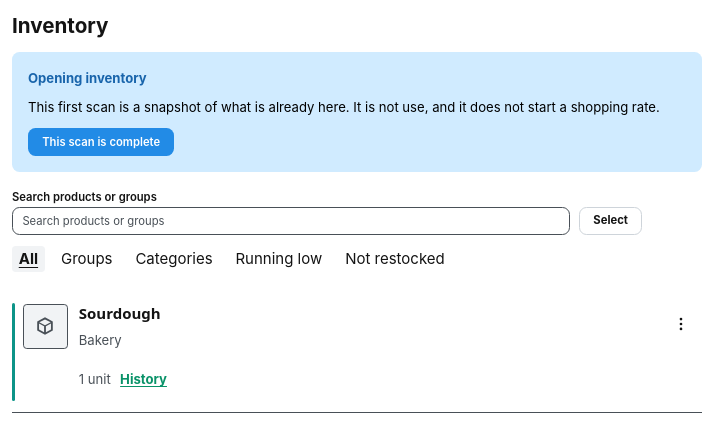
InventoryPage › shows the opening banner only while the first scan is unfinished
The image size is (719, 430).
Expected: the heading "Sourdough" is shown, [79, 302, 161, 322]
Expected: the message "Opening inventory" is shown, [12, 52, 702, 172]
What coordinates should you click on to do the following:
click the button "This scan is complete"
I would click on:
 (101, 142)
Its box is [28, 128, 174, 156].
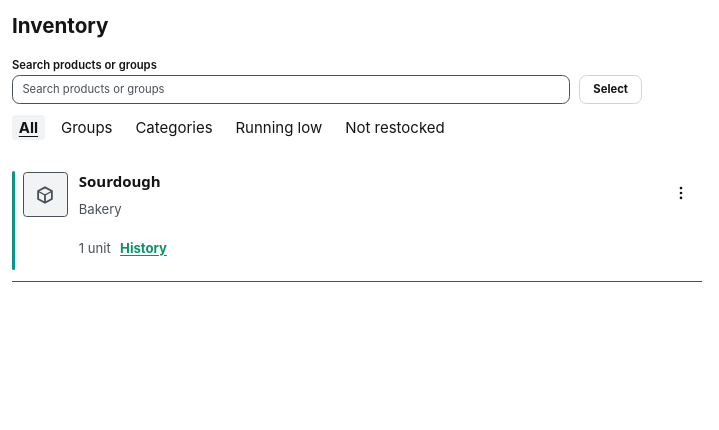
Expected: the text "Opening inventory" is gone
